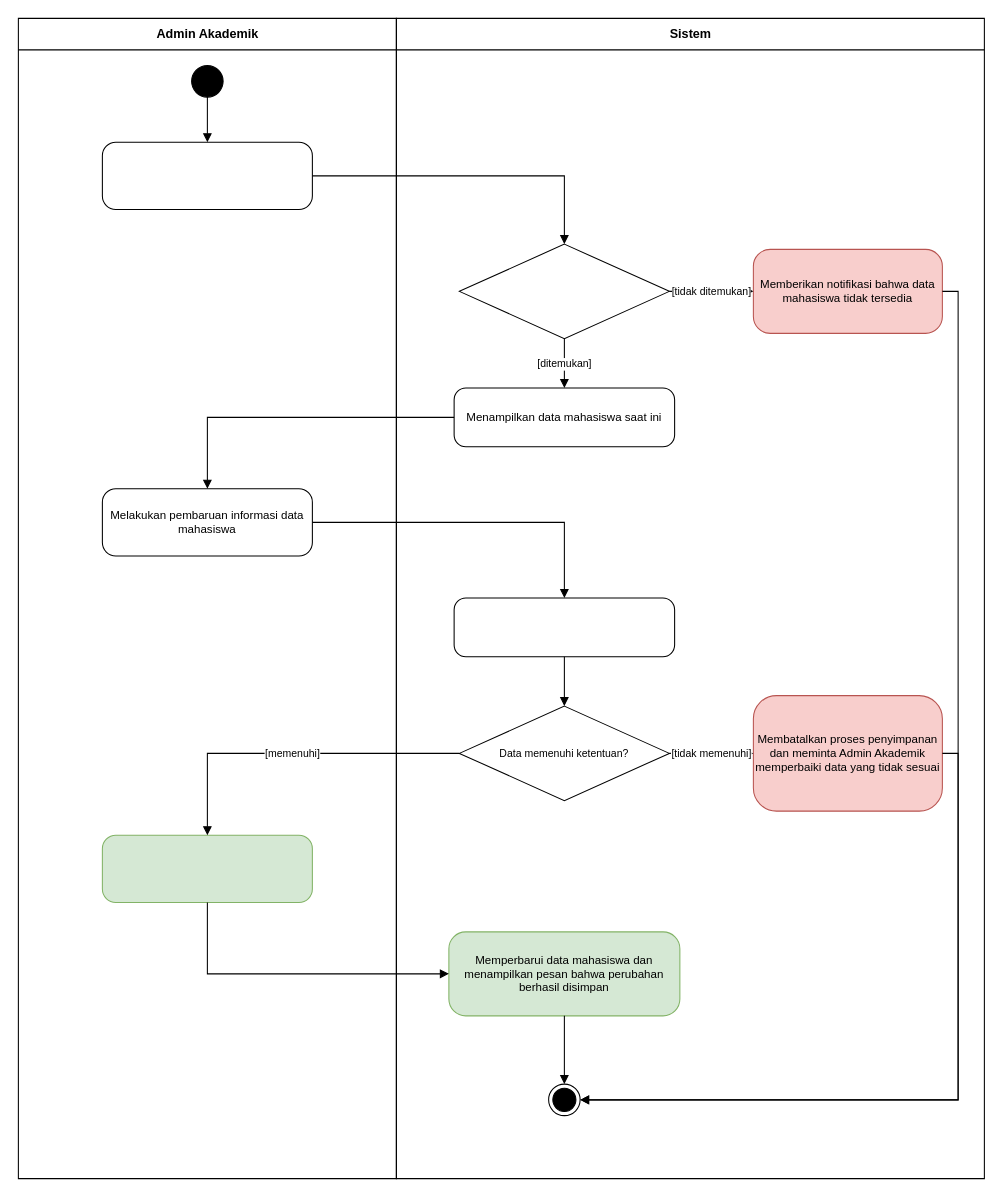
The diagram is 1003 pixels wide and 1197 high, and some of its shapes have lost their labels. The centre of each missing label's shape, as x and y in pixels:
Data mahasiswa ditemukan?: (563,291)
Memeriksa perubahan data: (564,627)
Memilih data mahasiswa yang akan diubah: (206,175)
Menyimpan data mahasiswa yang telah diperbarui: (206,868)
